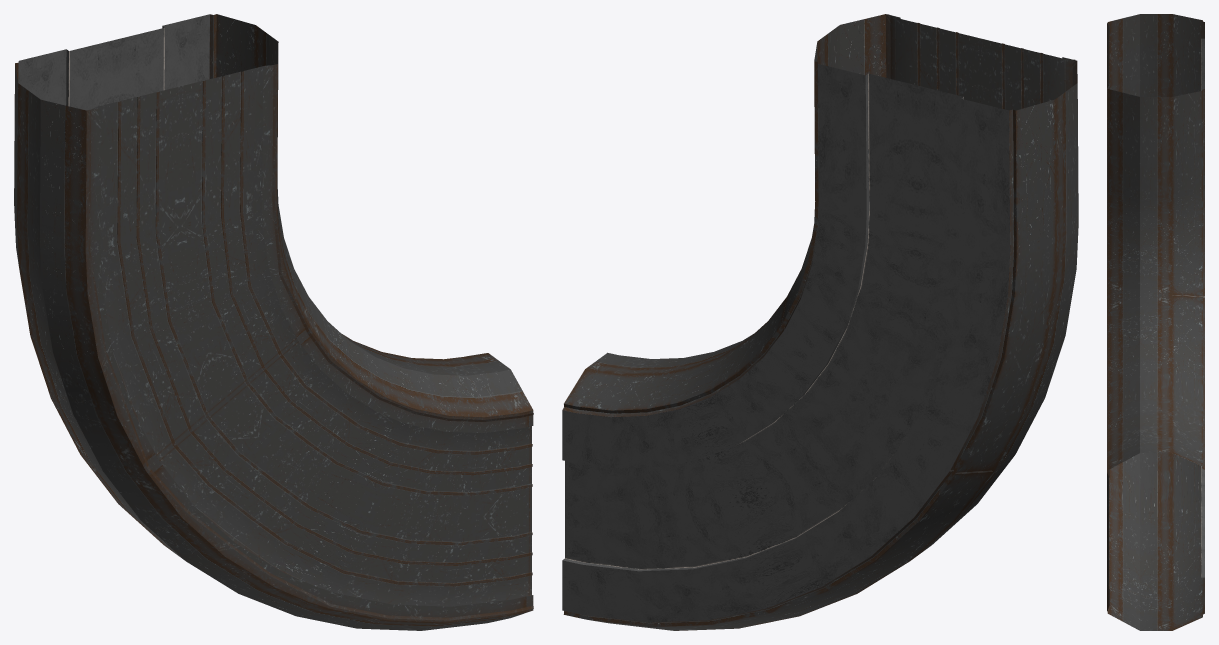
Rendered from Coridor_small_2_angle_90.FBX.
3 views of the same model, side by side, from view 1: azimuth 30°, elevation 25°; view 2: azimuth 150°, elevation 25°; view 3: azimuth 270°, elevation 25° (orthographic). The views are drawn at different scales.
Parts seen in each view (by area): view 1: Coridor_small_004; view 2: Coridor_small_004; view 3: Coridor_small_004.
Part boxes in pixels (x1=…): Coridor_small_004: x1=14, y1=14, x2=533, y2=630; Coridor_small_004: x1=562, y1=14, x2=1078, y2=630; Coridor_small_004: x1=1107, y1=14, x2=1204, y2=630.
Size of the model in its own units: 12.24 by 15.73 by 3.08.
Materials: 1 (1 with a texture image).
